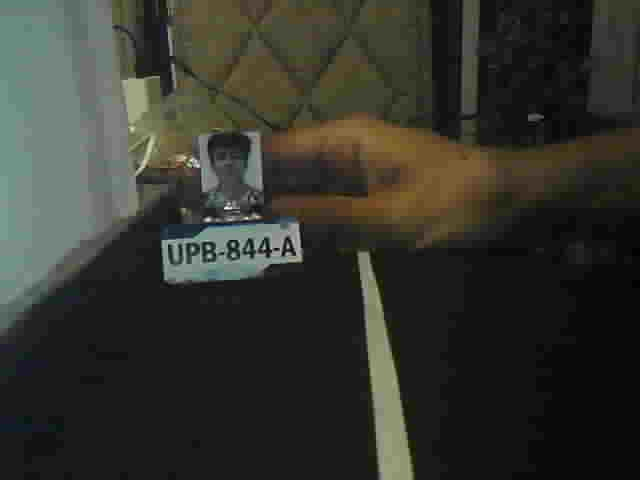PLACA: (158, 214, 305, 290)
ROSTRO: (203, 131, 263, 205)
